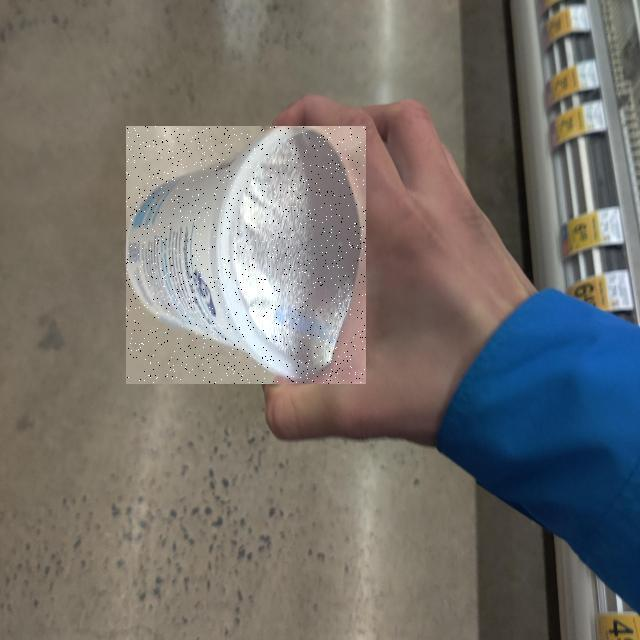Yoghurt: (126, 126, 366, 384)
